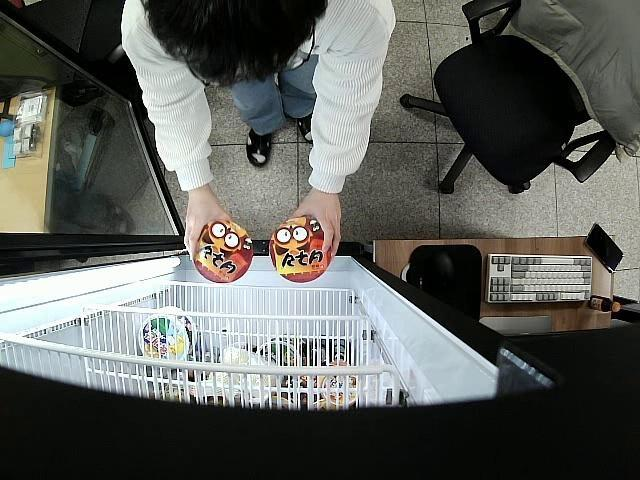05_nuguri_L: (268, 216, 332, 281), (192, 221, 253, 284)
